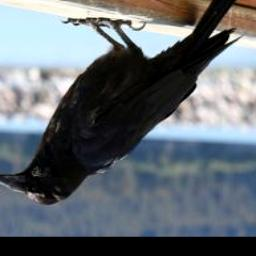Crow: (0, 0, 243, 208)
